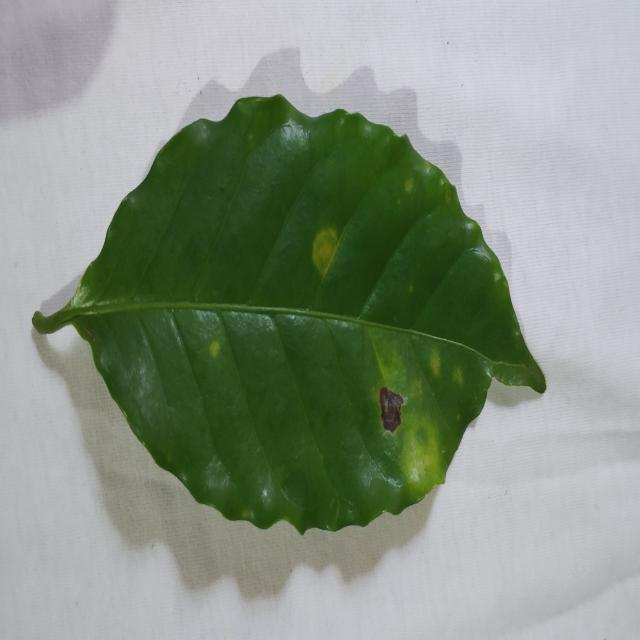Enfermedad-Roya: (31, 95, 546, 537)
